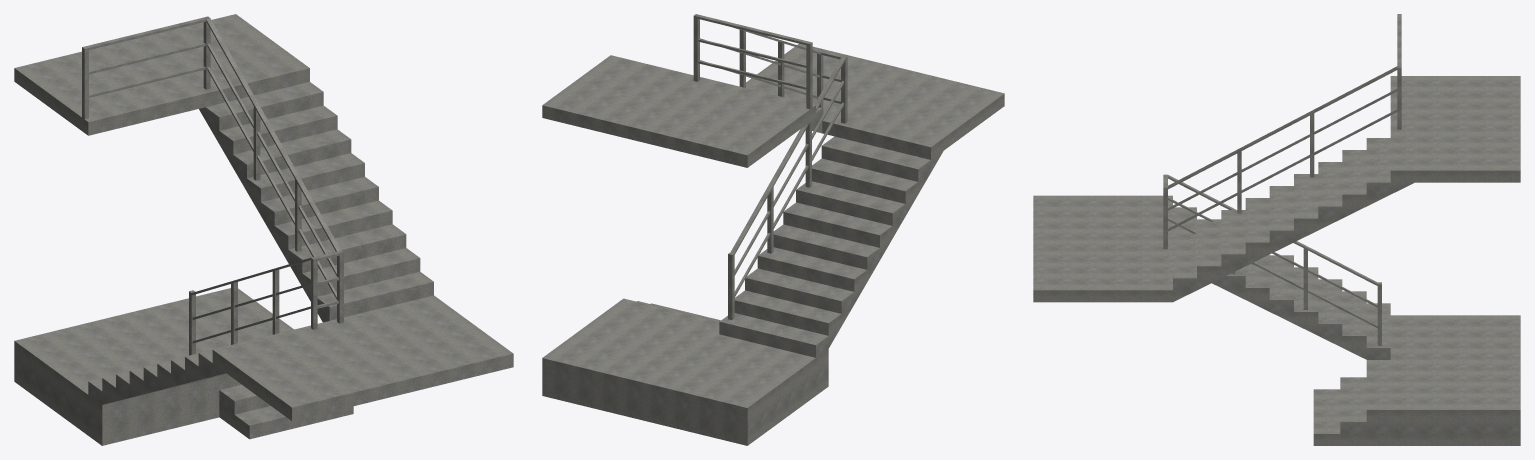
File: stairs.obj
The picture shows the model from 3 angles, left to right: view 1: azimuth 30°, elevation 25°; view 2: azimuth 150°, elevation 25°; view 3: azimuth 270°, elevation 25°; orthographic projection. The views are drawn at different scales.
Parts seen in each view (by area): view 1: stairs_MH1_OBJ_09; view 2: stairs_MH1_OBJ_09; view 3: stairs_MH1_OBJ_09.
Boxes of the visible parts, x1,y1,x2,y2 form: stairs_MH1_OBJ_09: [14, 14, 513, 445]; stairs_MH1_OBJ_09: [542, 14, 1004, 445]; stairs_MH1_OBJ_09: [1033, 14, 1520, 445].
Bounding box in the file's own units: 102 × 169 × 221.
1 material, 1 textured.
